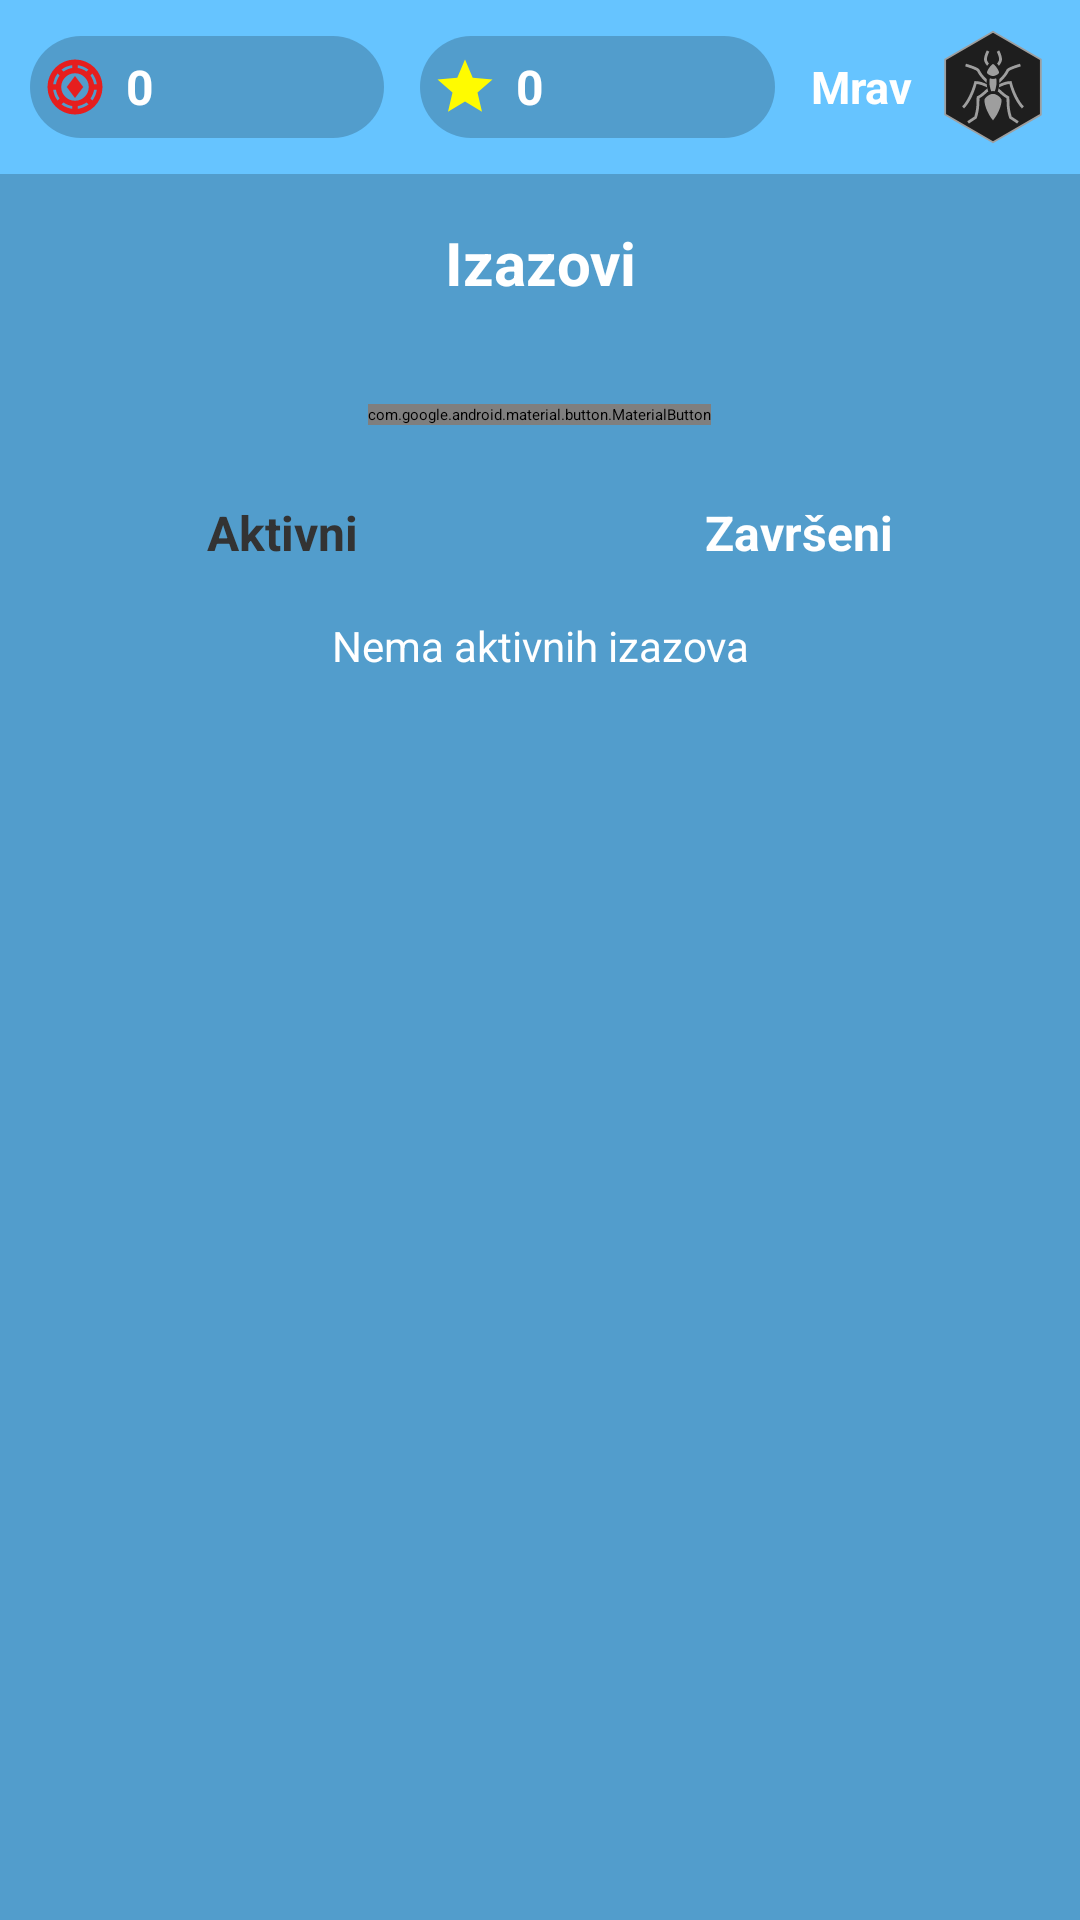

Icon click points for this 1080px×1920px phone screenshot, format (x,y):
Tokeni: (75,87)
Zvezde: (465,86)
